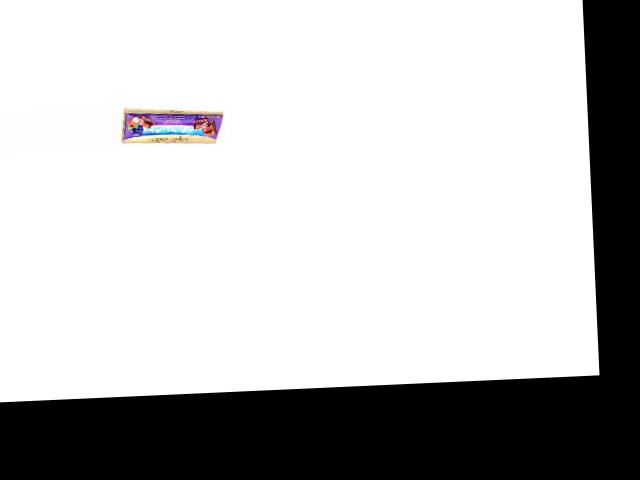chocolate: (120, 103, 229, 143)
